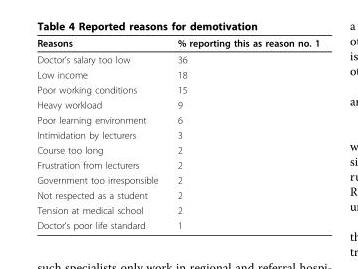table: (36, 36, 319, 230)
table column: (167, 36, 319, 230), (36, 36, 167, 230)
table column header: (36, 36, 319, 50)
table row: (36, 50, 319, 66), (36, 96, 319, 112), (36, 66, 319, 81), (36, 81, 319, 96), (36, 112, 319, 127), (36, 127, 319, 142), (36, 142, 319, 157), (36, 157, 319, 172), (36, 172, 319, 187), (36, 187, 319, 202), (36, 202, 319, 217), (36, 36, 319, 50), (36, 217, 319, 230)
